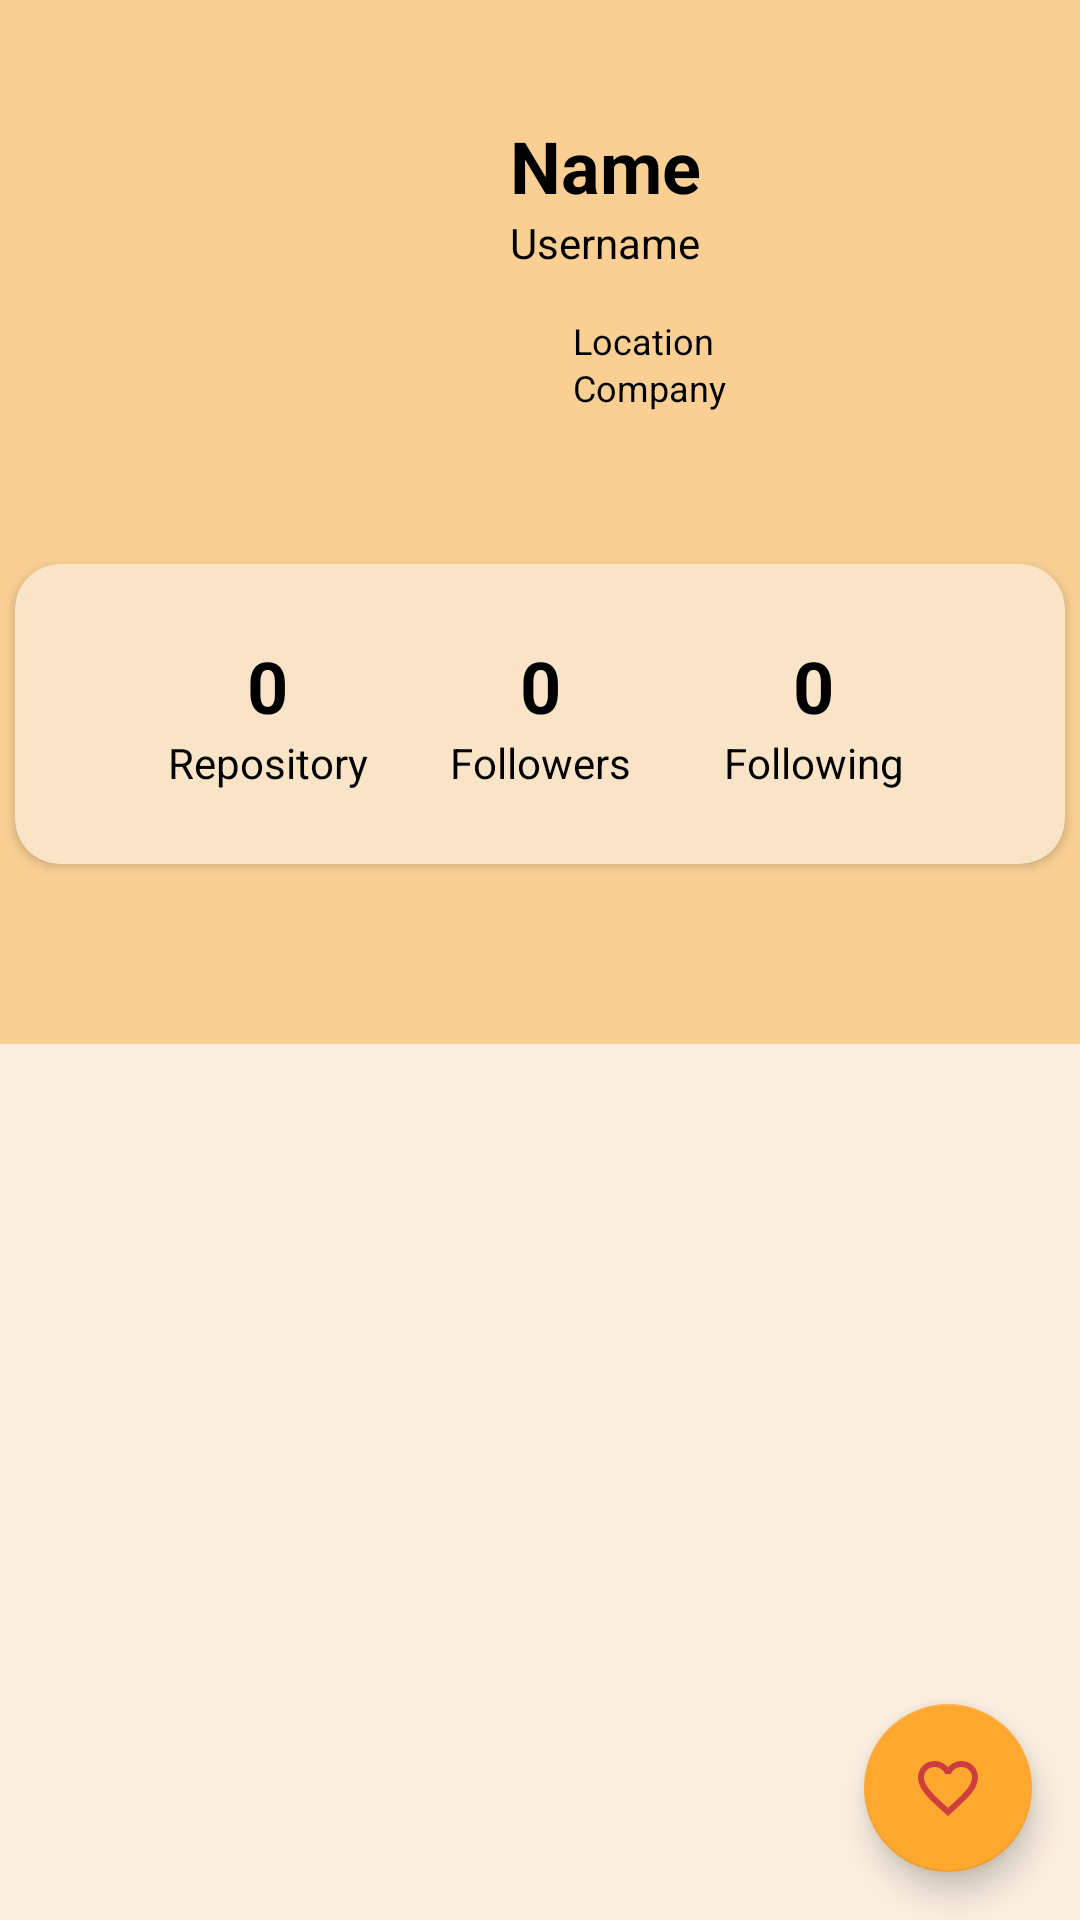

Icons on this 1080*1920 Android screen, each with its box as (x1, y1, x2, y2):
favorite border: (864, 1704, 1032, 1872)
